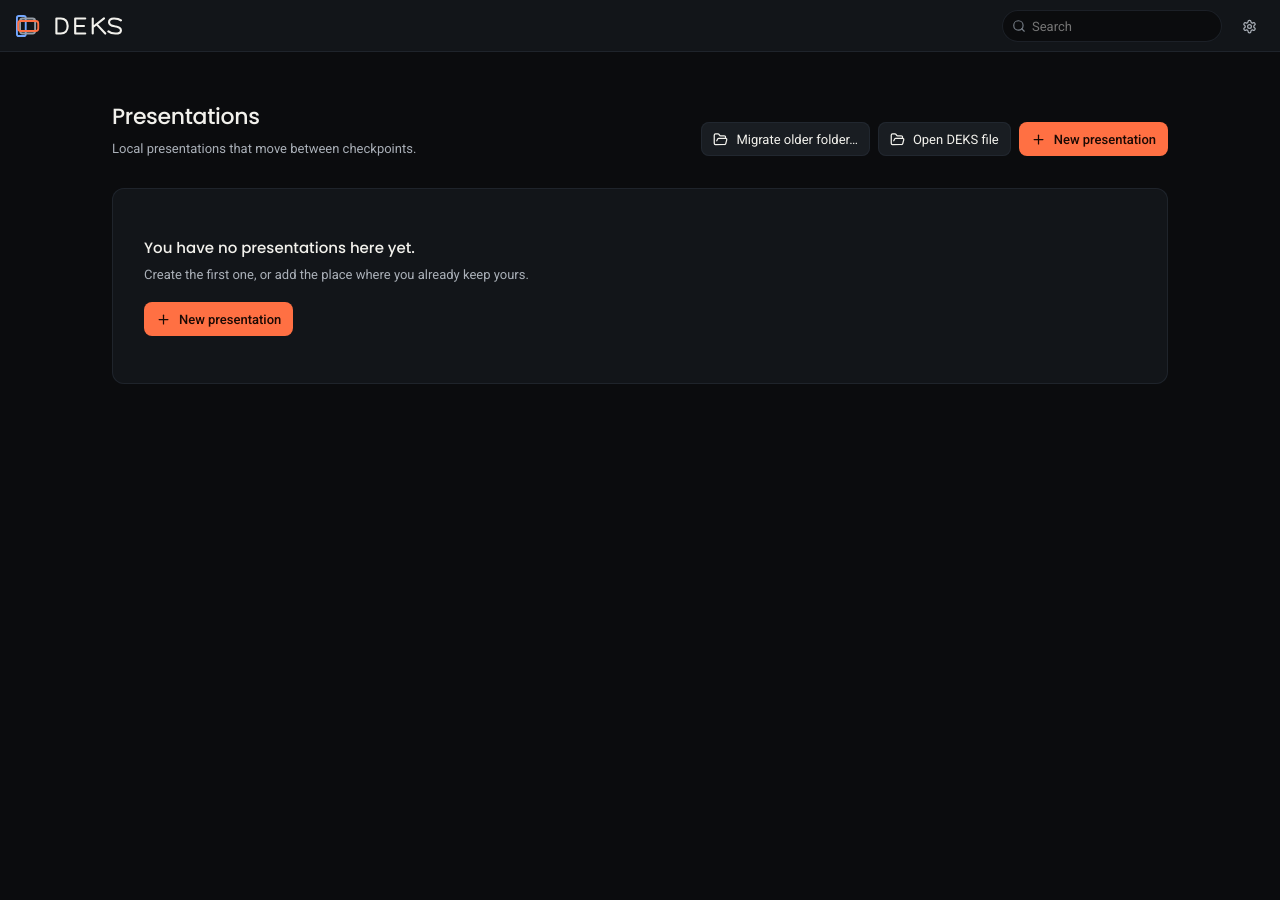
Test: preferencia global de idioma › serializa cambios rápidos y un fallo tardío no revierte la selección vigente
Click the button named "Settings" at (1249, 26), box [1234,11,1264,41]
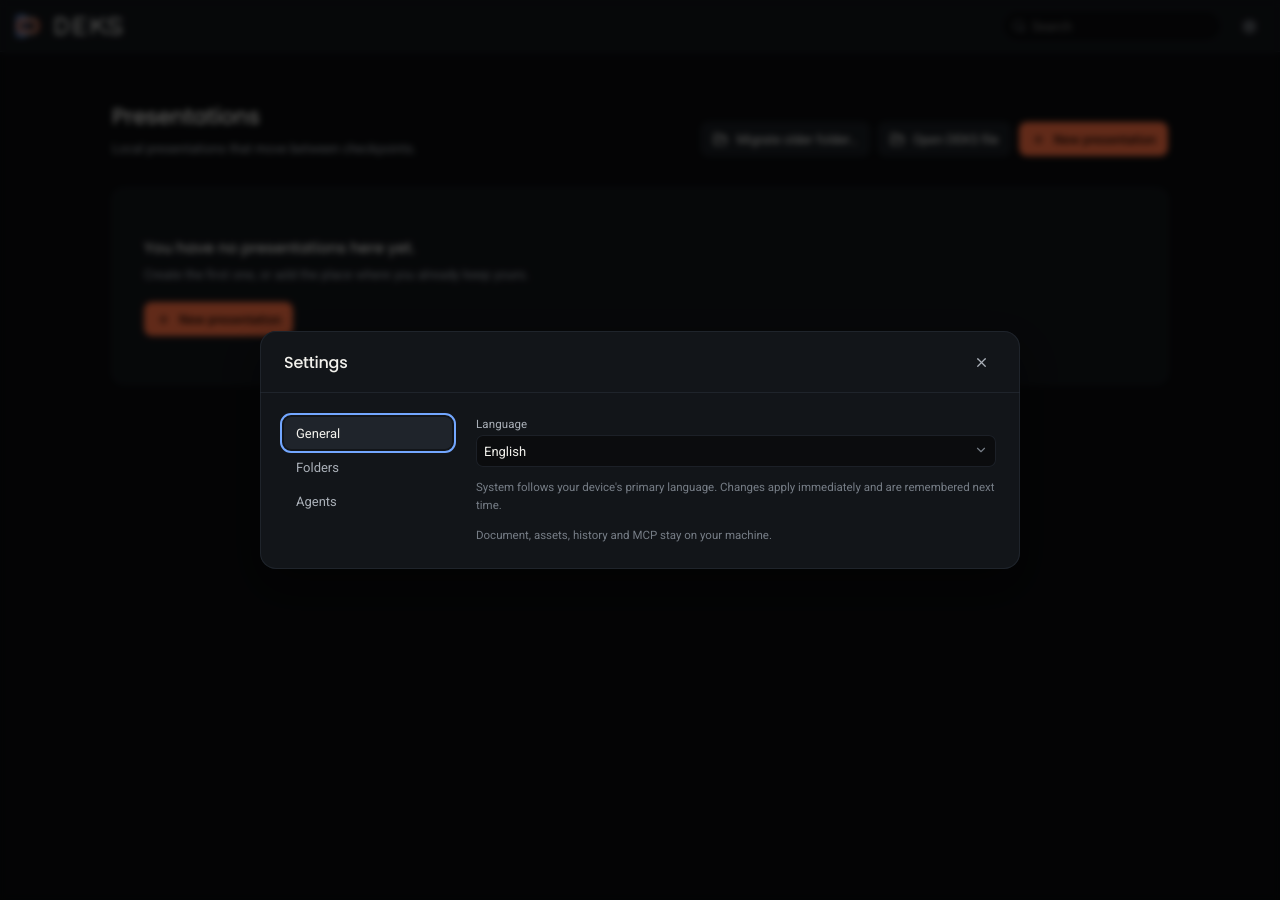
Click the dropdown named "Language" at (505, 451), box [476,435,996,467]
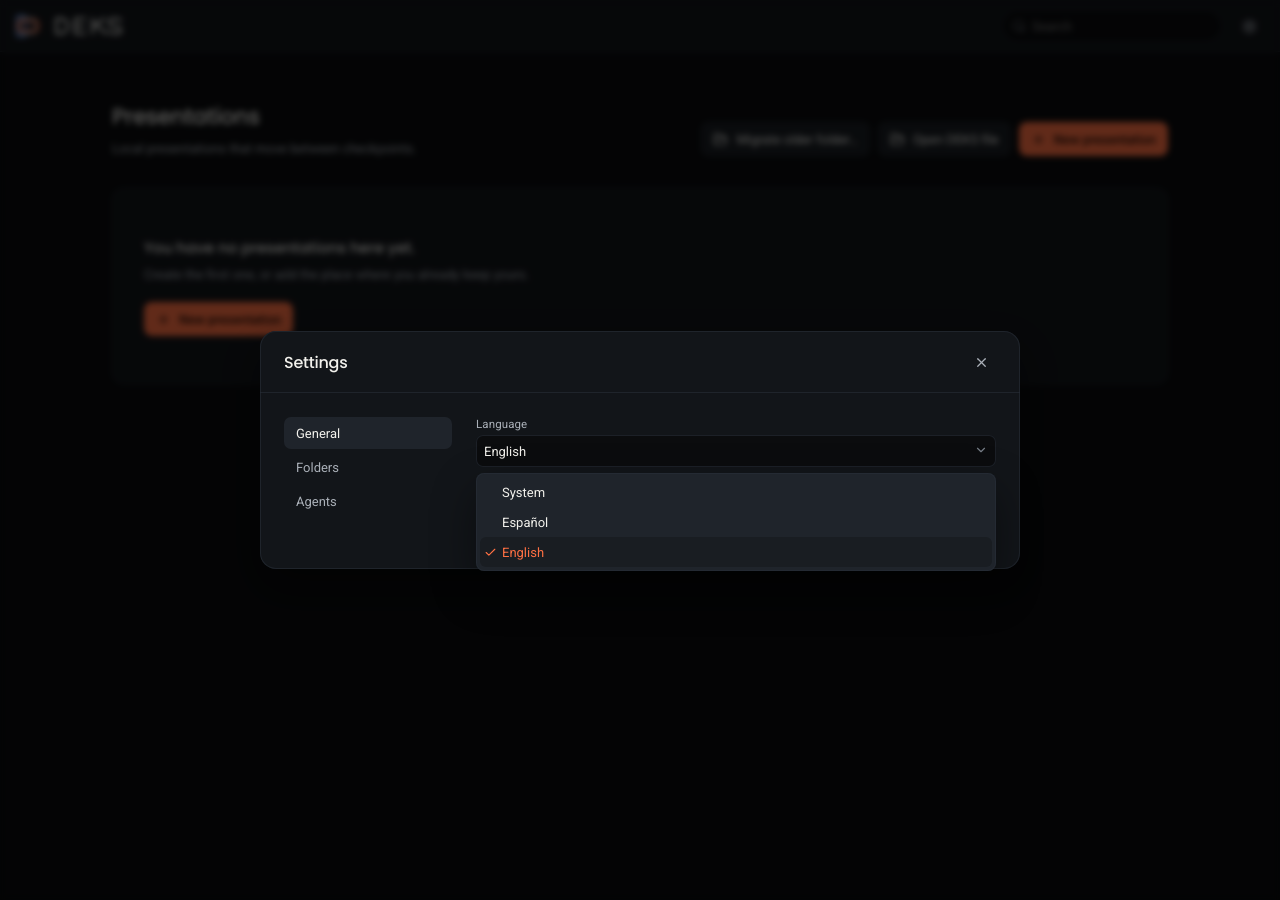
Click the option "Español" at (525, 522), box [502,514,548,530]
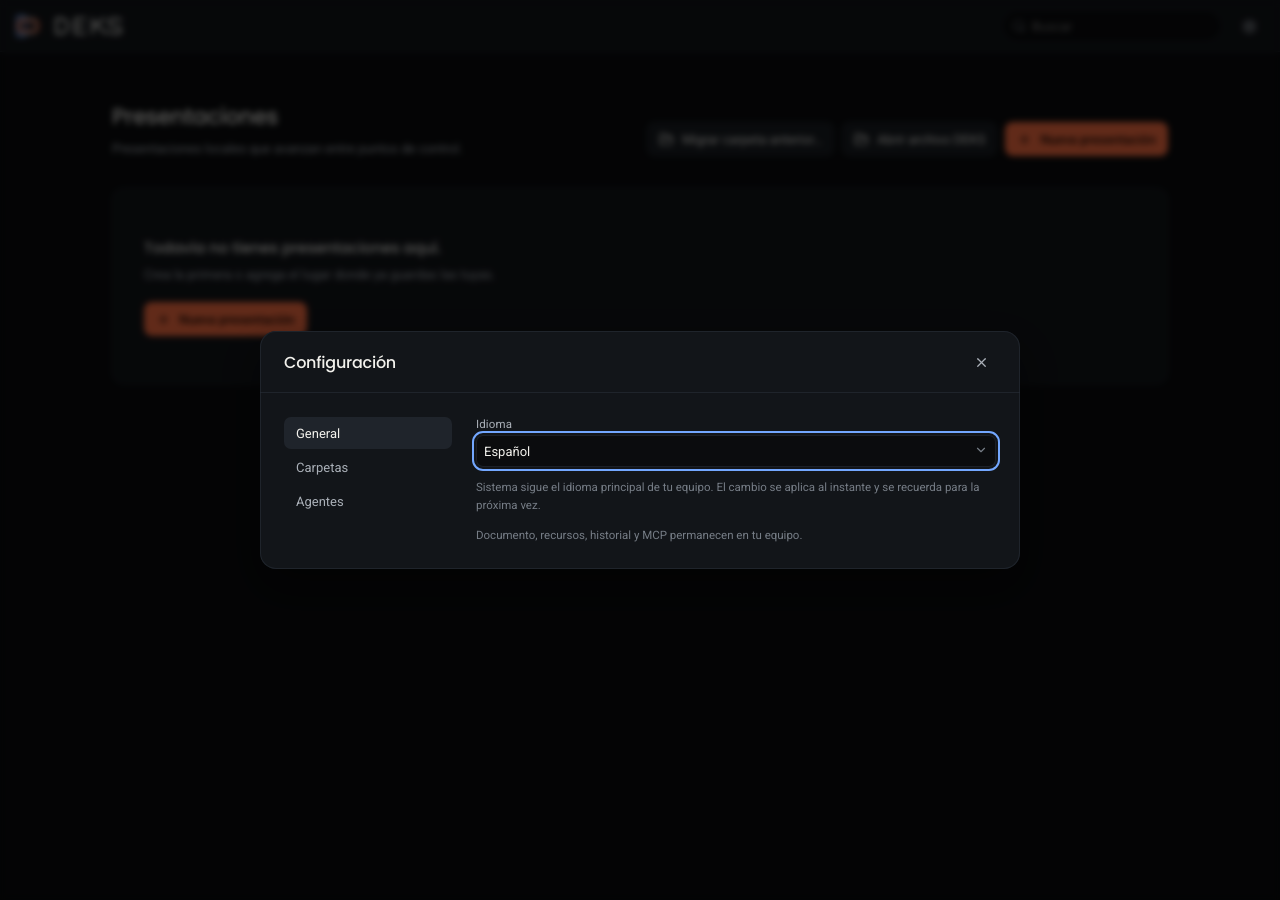
Click the dropdown named "Idioma" at (507, 451), box [476,435,996,467]
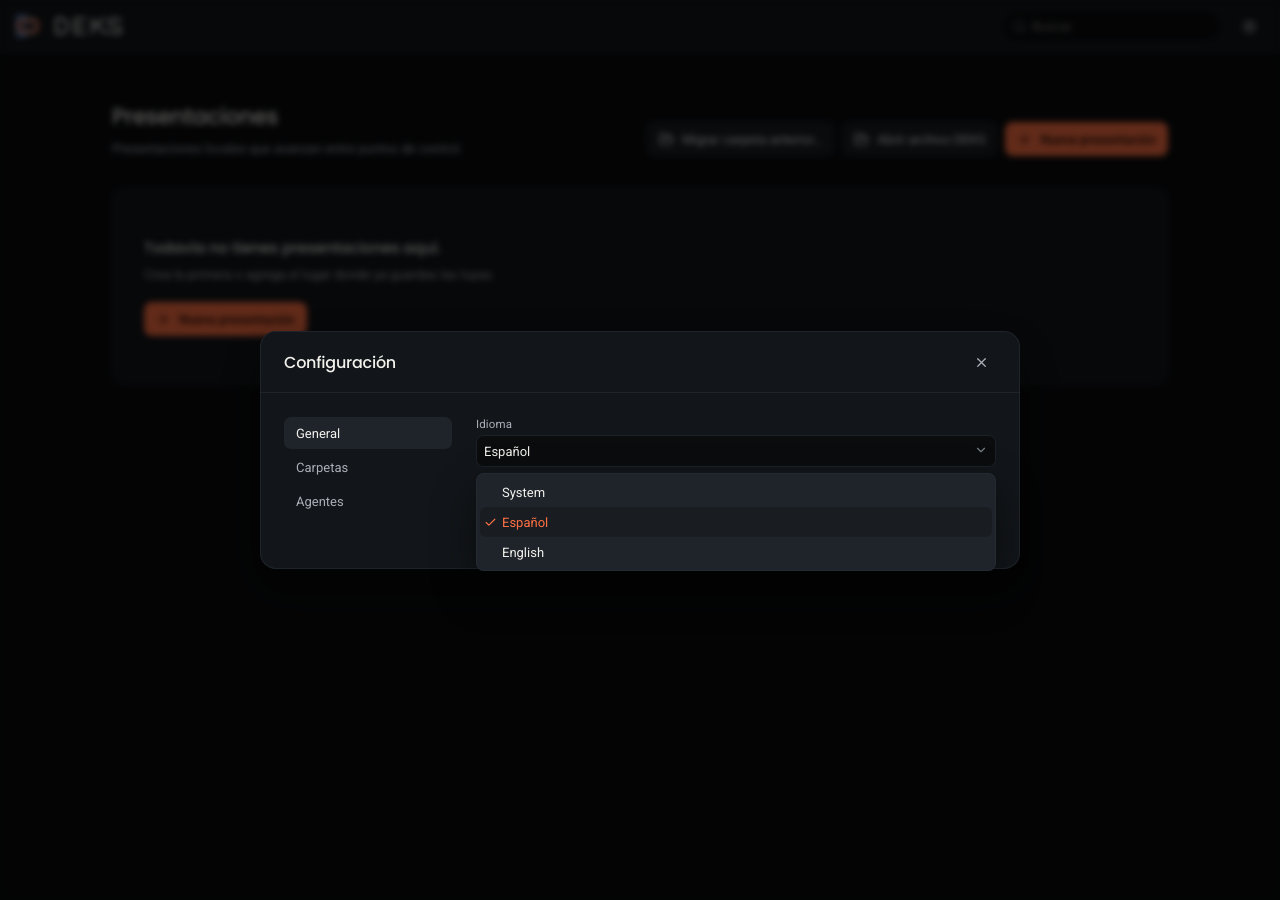
Click the option "System" at (524, 492), box [502,484,545,500]
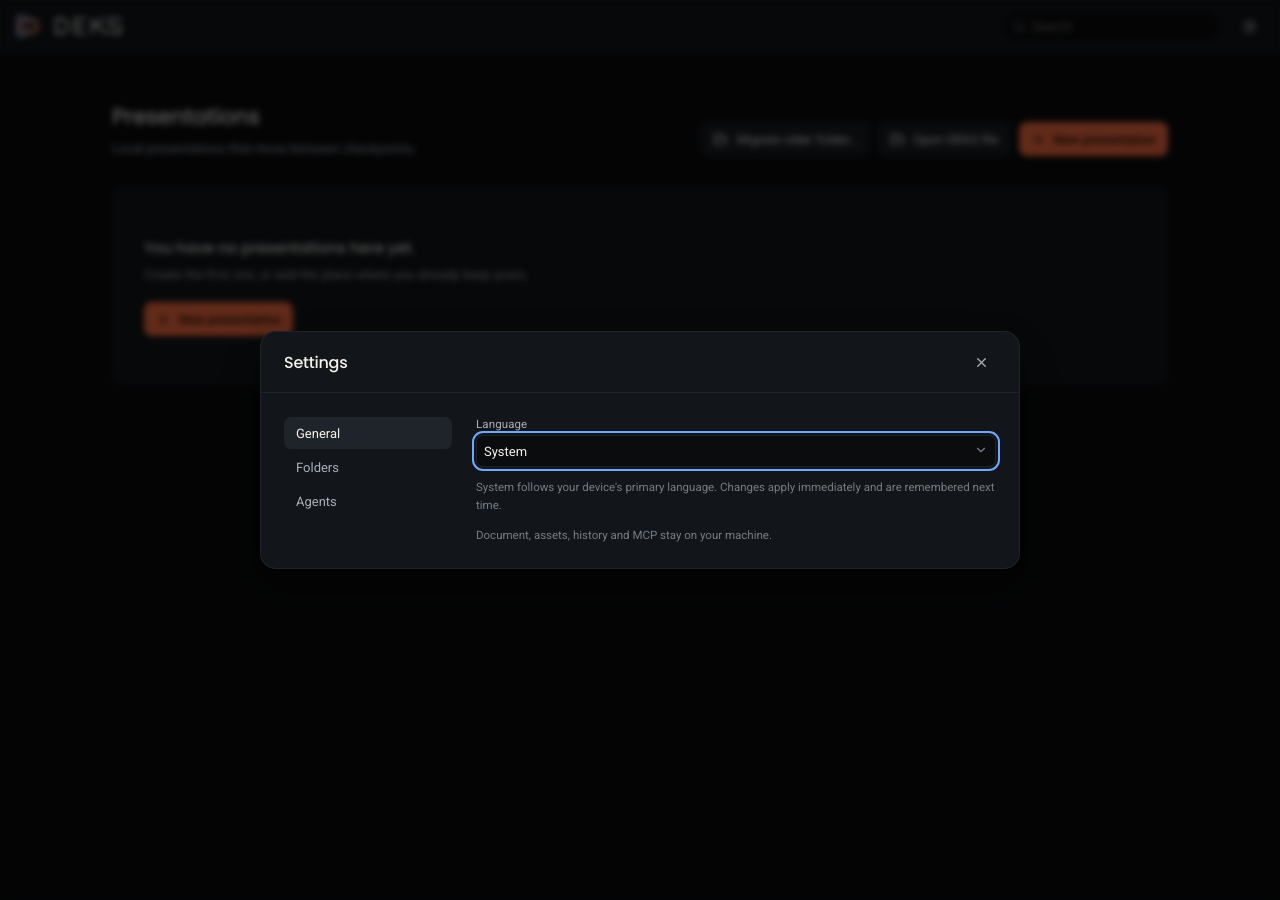
Check: the dropdown named "Language" reads "System", box [476,435,996,467]
